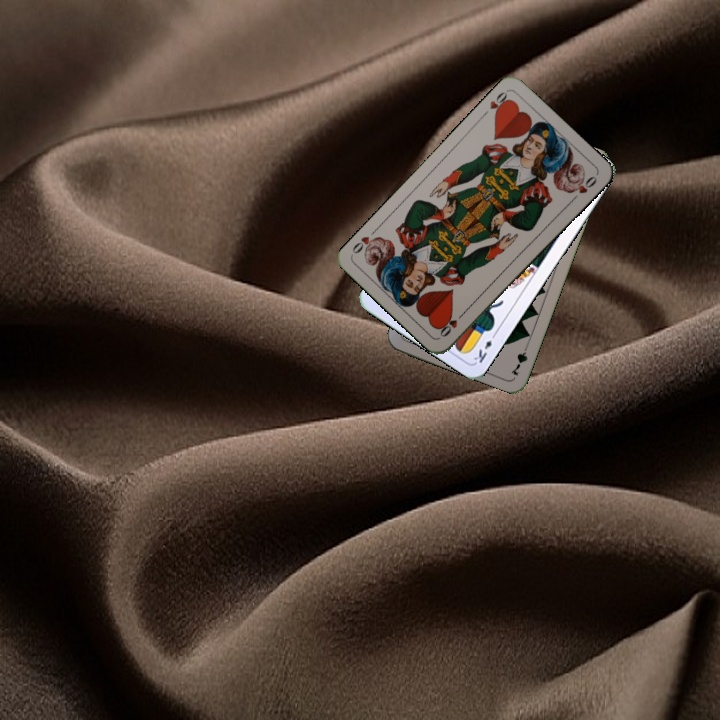EK: (470, 328, 499, 366)
G7: (507, 339, 531, 378)
HO: (478, 87, 513, 120), (436, 307, 468, 339)
